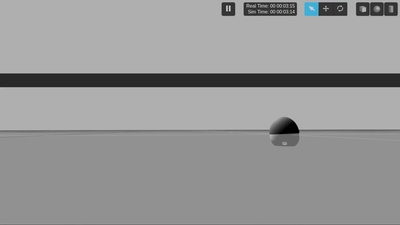mira_robot: (270, 116, 301, 148)
